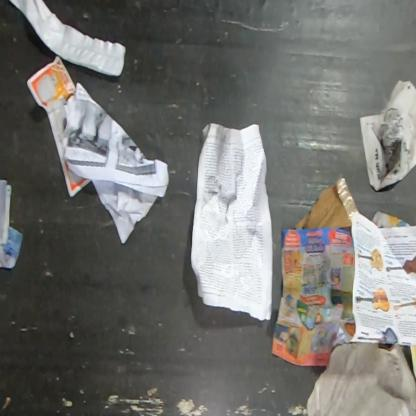cardboard: (294, 172, 361, 230)
soft_plastic: (6, 0, 127, 79), (293, 341, 415, 415)
